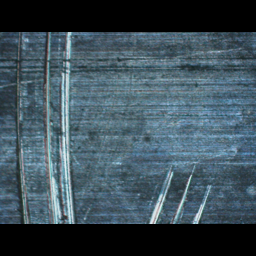d: (12, 31, 82, 223), (140, 158, 225, 223)
